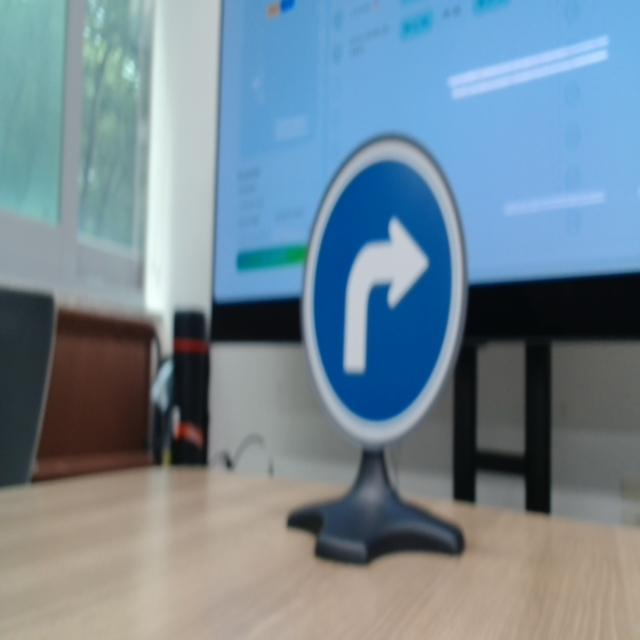right_dierection: (288, 108, 471, 453)
